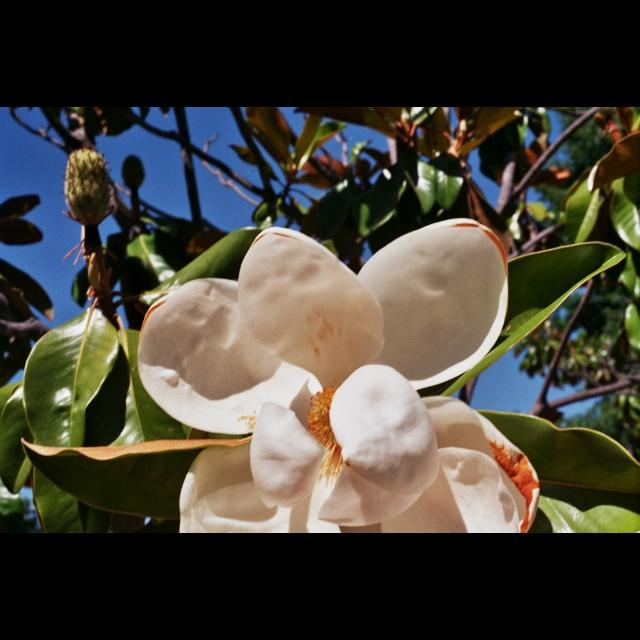Flower: (139, 219, 543, 533), (58, 146, 109, 227)
